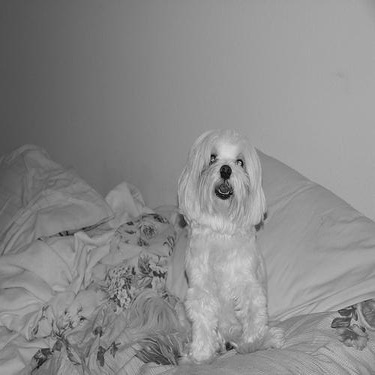dog: (153, 119, 278, 365)
